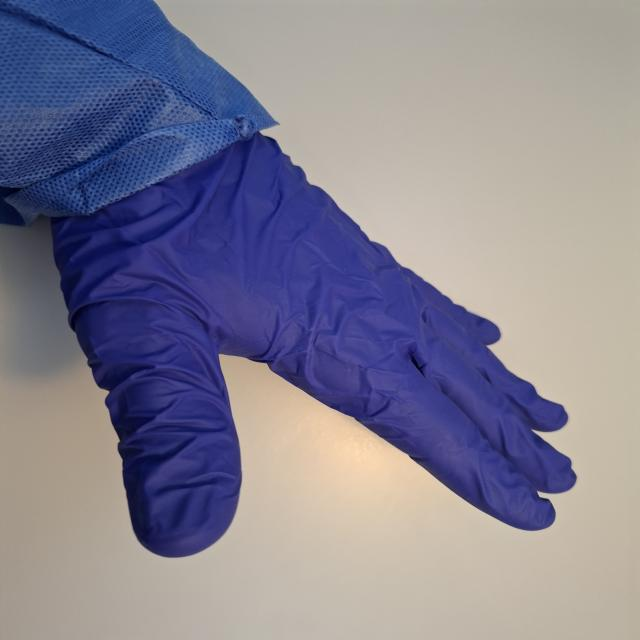glove_on: (47, 114, 582, 561)
